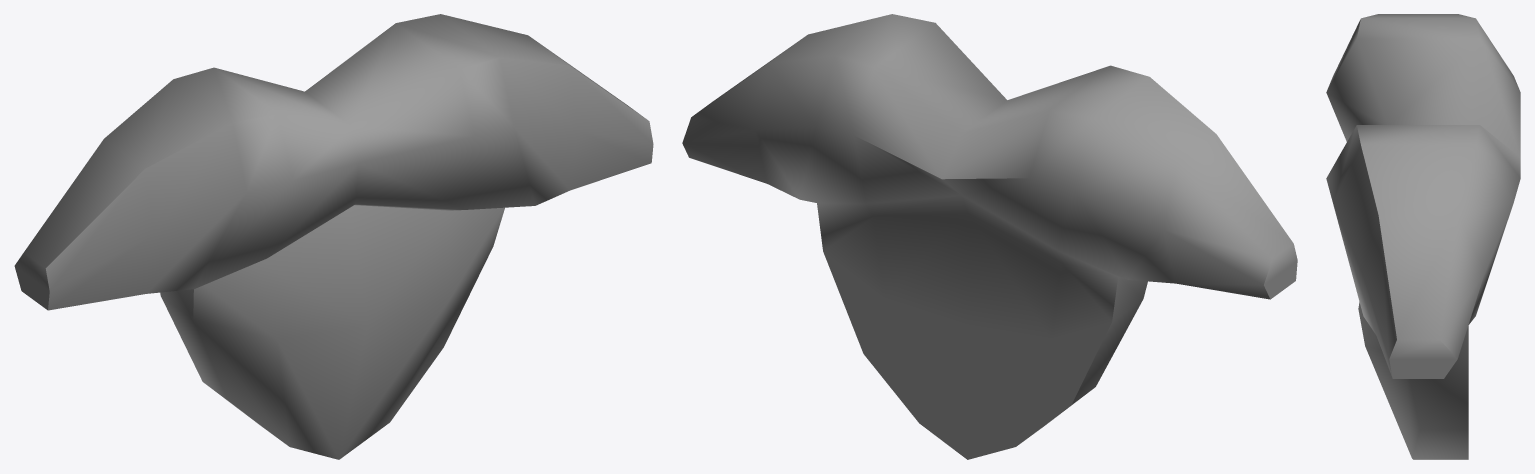
Rendered from beard_gray.fbx.
The picture shows the model from 3 angles, left to right: view 1: azimuth 30°, elevation 25°; view 2: azimuth 150°, elevation 25°; view 3: azimuth 270°, elevation 25°; orthographic projection. The views are drawn at different scales.
Visible parts, largest first — view 1: beard_gray; view 2: beard_gray; view 3: beard_gray.
Boxes of the visible parts, left/top/right/bottom form: beard_gray: left=14, top=14, right=653, bottom=459; beard_gray: left=682, top=14, right=1297, bottom=459; beard_gray: left=1326, top=14, right=1520, bottom=459.
Size of the model in its own units: 42.76 by 26.38 by 12.29.
1 material, 1 textured.
